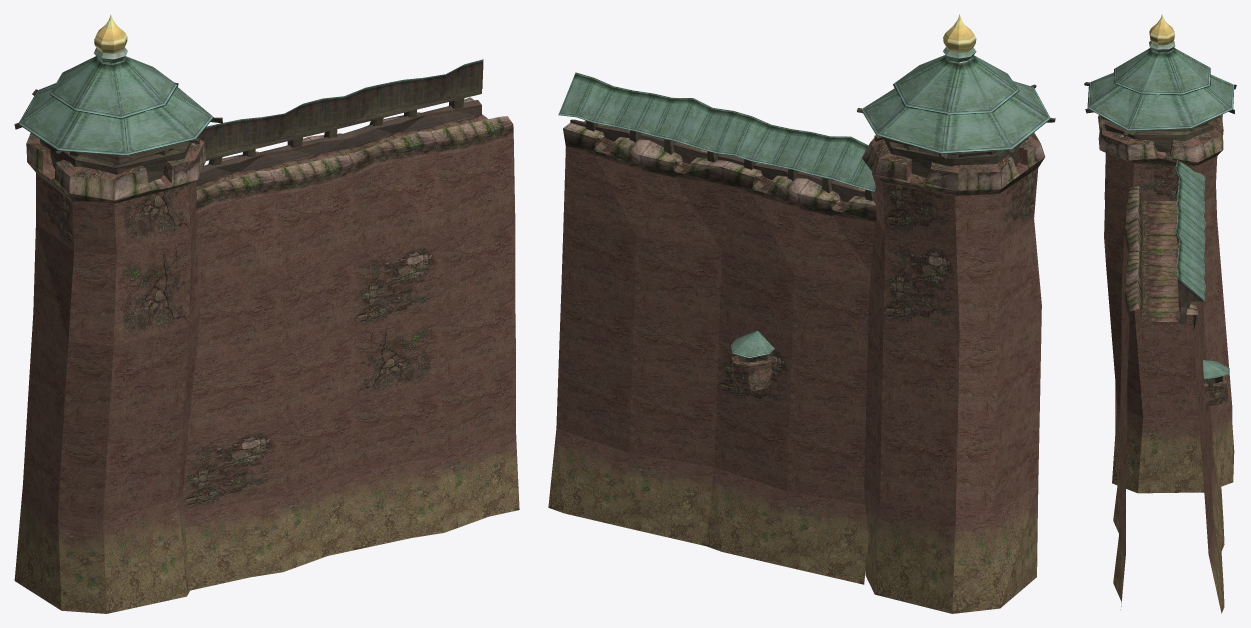
Rendered from C1SMGIANTGATE_LEFT.obj.
3 views of the same model, side by side, from view 1: azimuth 30°, elevation 25°; view 2: azimuth 150°, elevation 25°; view 3: azimuth 270°, elevation 25° (orthographic). The views are drawn at different scales.
Visible parts, largest first — view 1: Node 0; view 2: Node 0; view 3: Node 0.
Part boxes in pixels (<box>): Node 0: <box>14,14,519,613</box>; Node 0: <box>548,14,1055,613</box>; Node 0: <box>1084,14,1236,613</box>.
Size of the model in its own units: 28.46 by 33.78 by 10.35.
4 materials, 4 textured.
